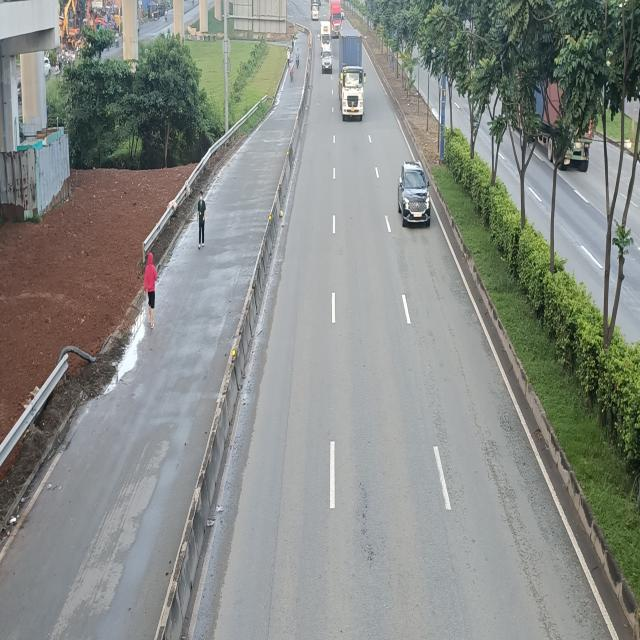car: (399, 161, 433, 225)
container: (339, 29, 367, 119), (328, 0, 343, 38)
